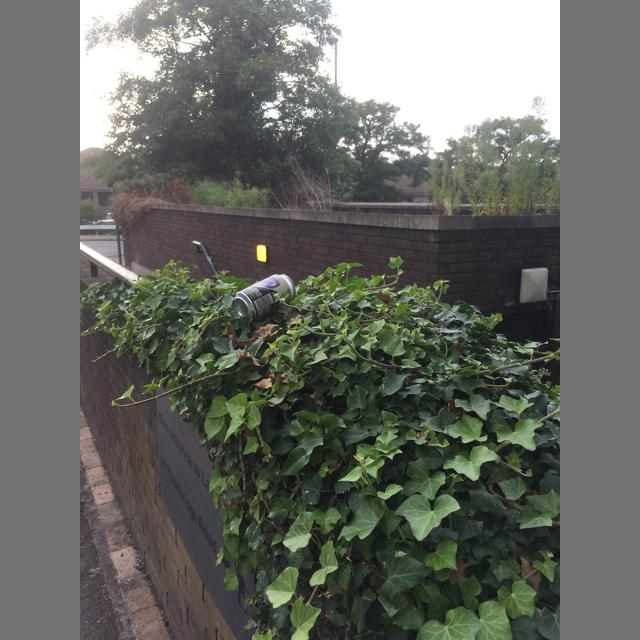litter: (234, 274, 296, 322)
